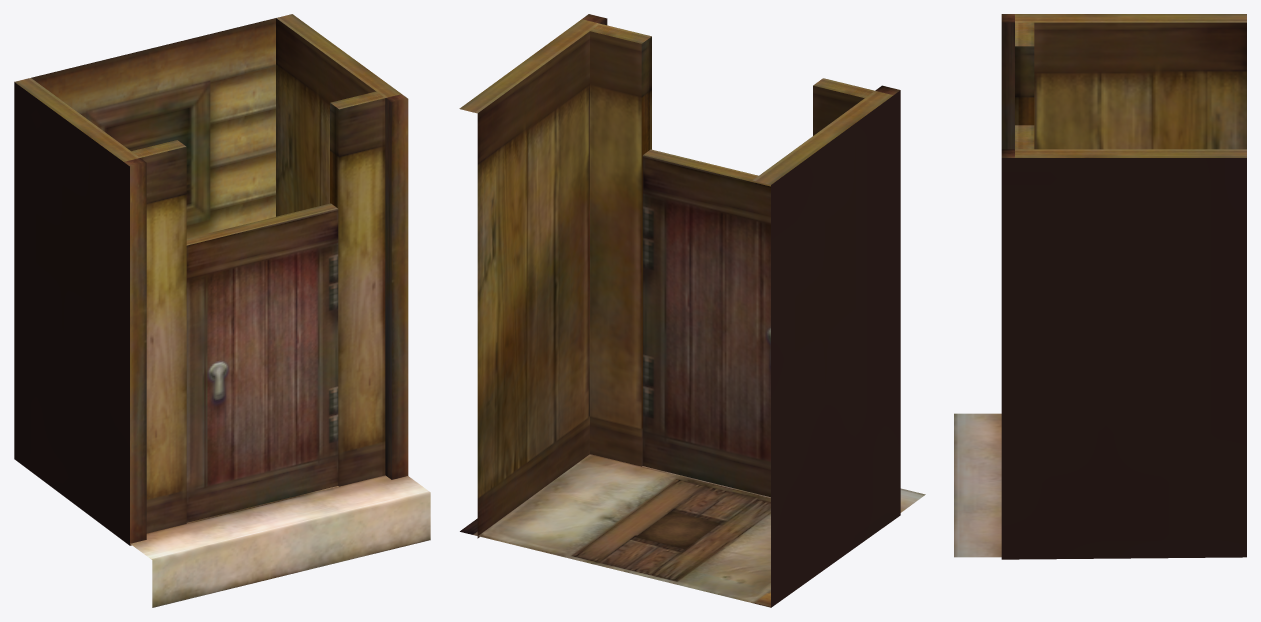
File: s_SWGtoilet01.glb
3 views of the same model, side by side, from view 1: azimuth 30°, elevation 25°; view 2: azimuth 150°, elevation 25°; view 3: azimuth 270°, elevation 25° (orthographic). The views are drawn at different scales.
Visible parts, largest first — view 1: s_SWGtoilet01; view 2: s_SWGtoilet01; view 3: s_SWGtoilet01.
Part boxes in pixels (left/top/right/bottom): s_SWGtoilet01: left=14, top=14, right=430, bottom=607; s_SWGtoilet01: left=459, top=14, right=925, bottom=607; s_SWGtoilet01: left=954, top=14, right=1246, bottom=559.
Bounding box in the file's own units: 2 × 2.92 × 1.72.
Materials: 1 (1 with a texture image).
